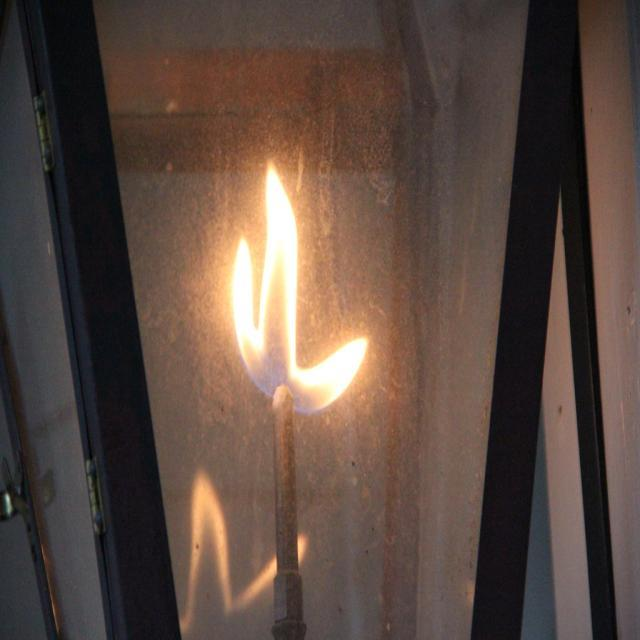Fire: (260, 190, 306, 372)
